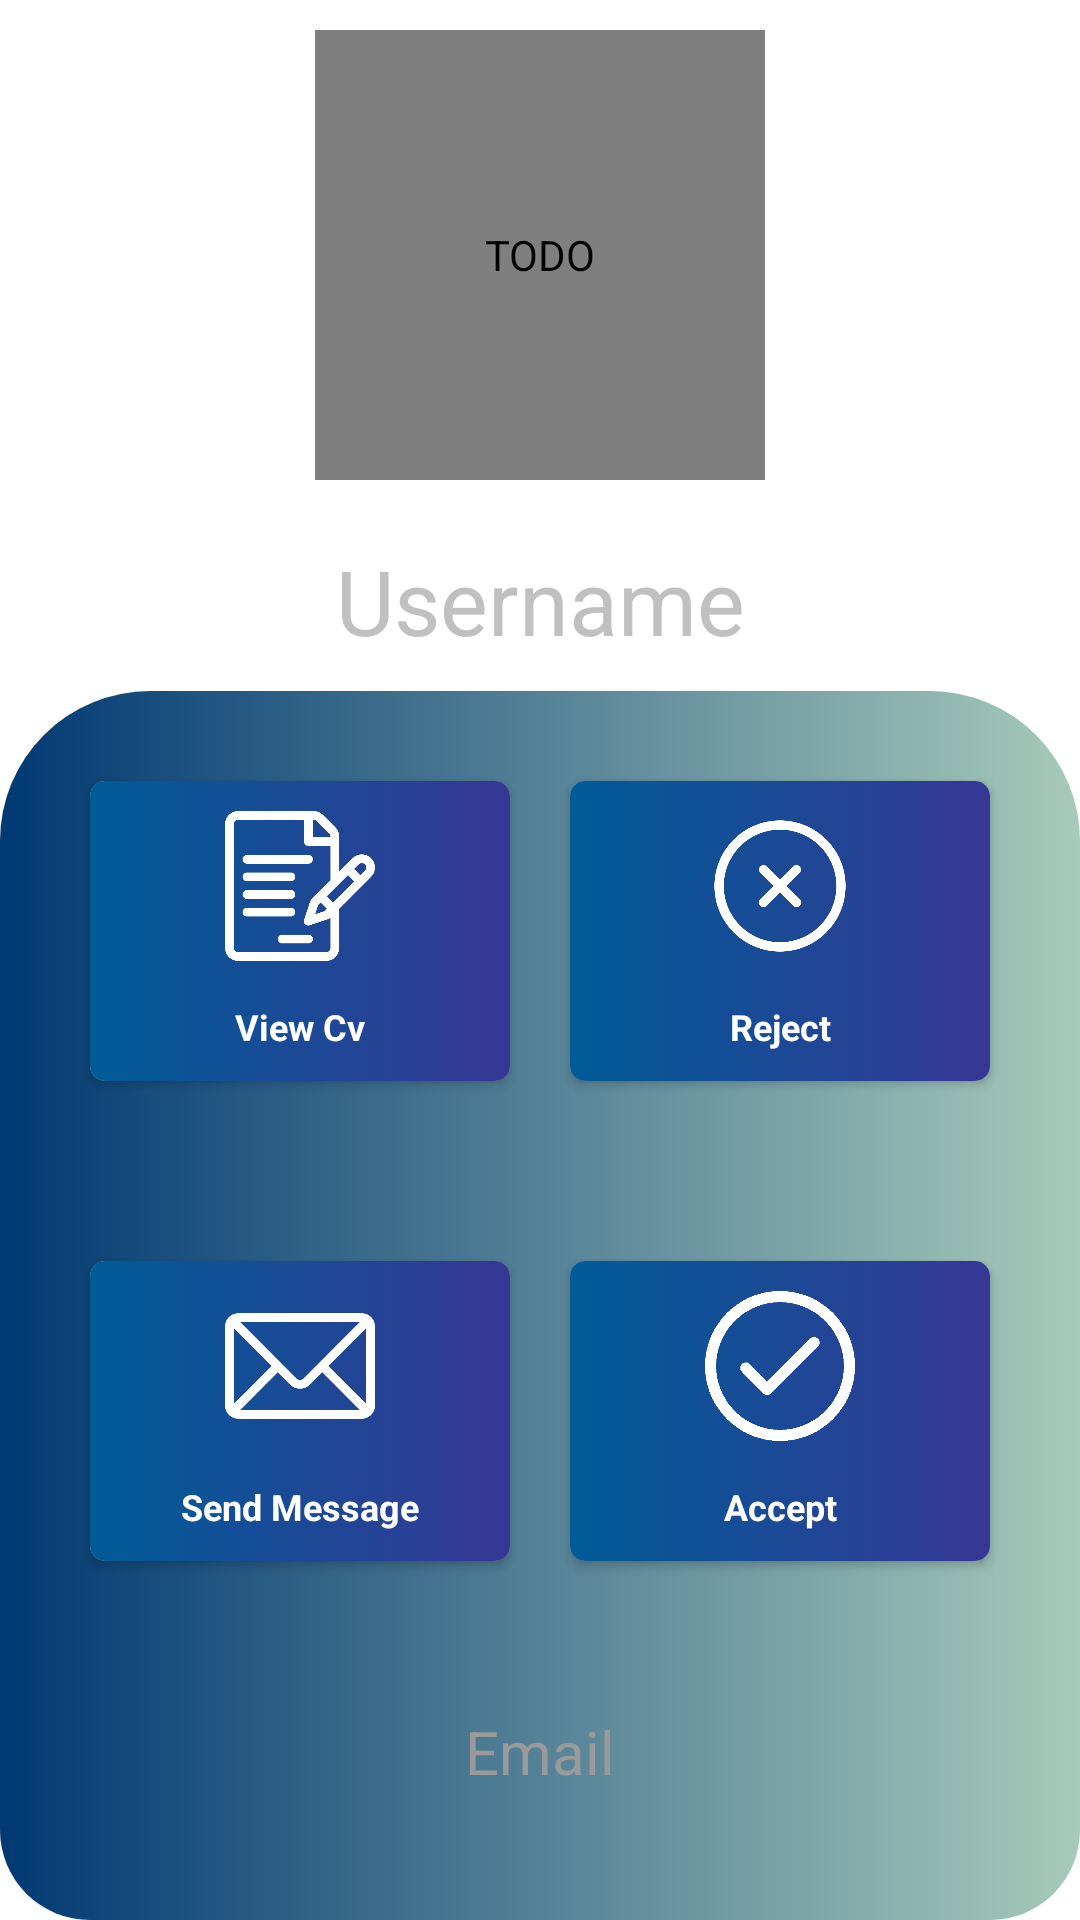

Point at icon controls on the screen. Image size 1080 × 1920, points as (x,y).
contract: (300,886)
cross: (780,886)
email: (300,1366)
